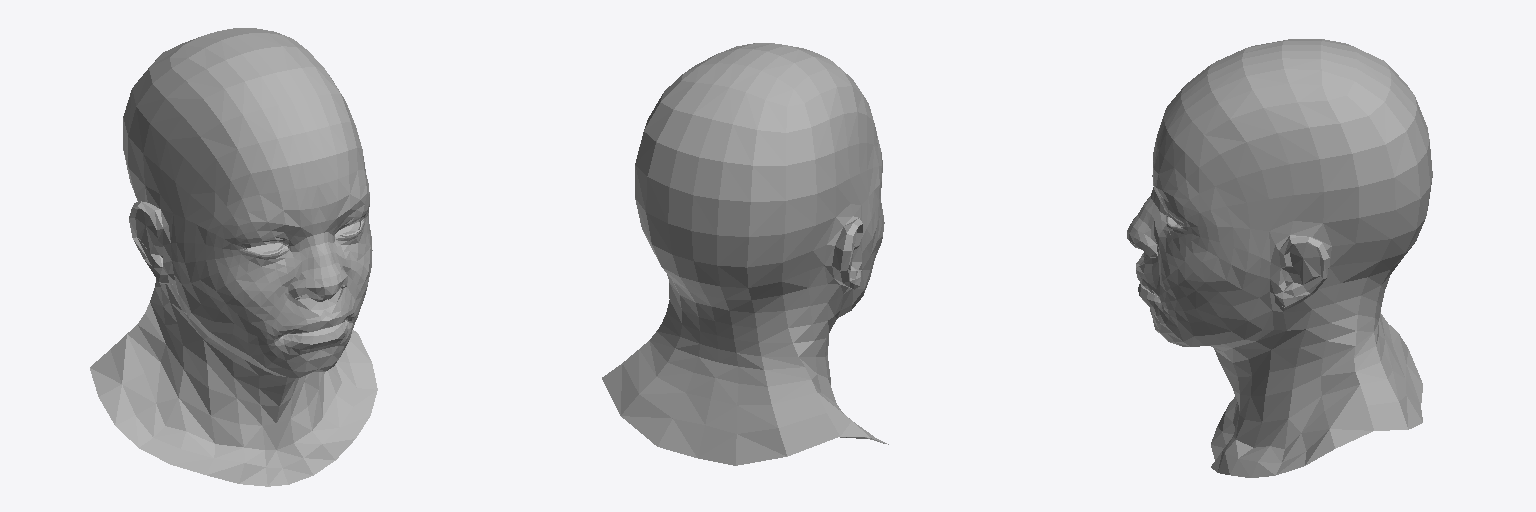
The model's file is head.obj.
3 renders of one model, left to right at view 1: azimuth 30°, elevation 25°; view 2: azimuth 150°, elevation 25°; view 3: azimuth 270°, elevation 25°, orthographic.
Visible parts, largest first — view 1: Head; view 2: Head; view 3: Head.
Part boxes in pixels (bbox=[...]): Head: bbox=[90, 28, 377, 486]; Head: bbox=[602, 43, 888, 465]; Head: bbox=[1127, 39, 1432, 477].
Bounding box in the file's own units: 1.32 × 2 × 1.35.